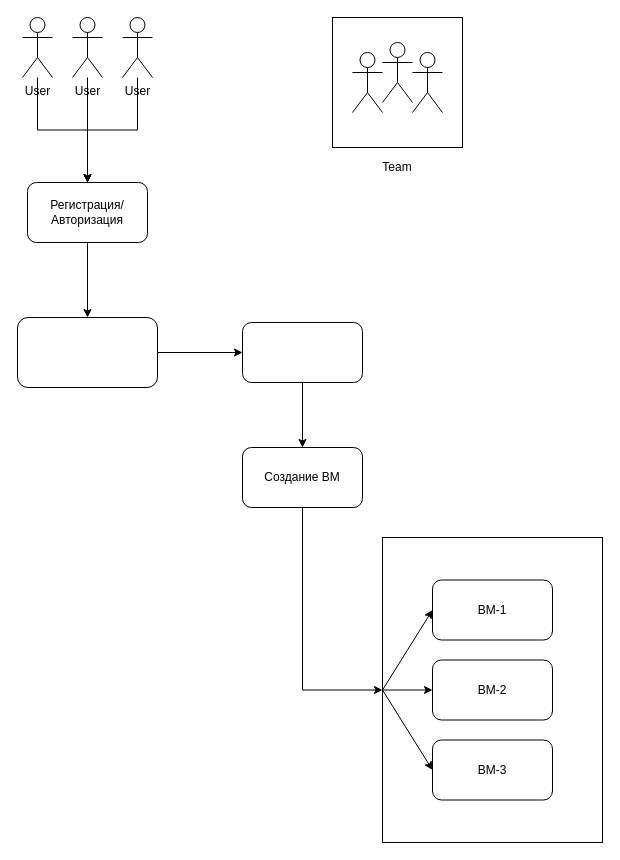
Image size: 620x860. Some labels were removed from this diagram. Here are the shapes that lost their labels. From the top down, the centre of each, then its label:
At (87,352): "Список мероприятий".
At (302,352): "Команда".
